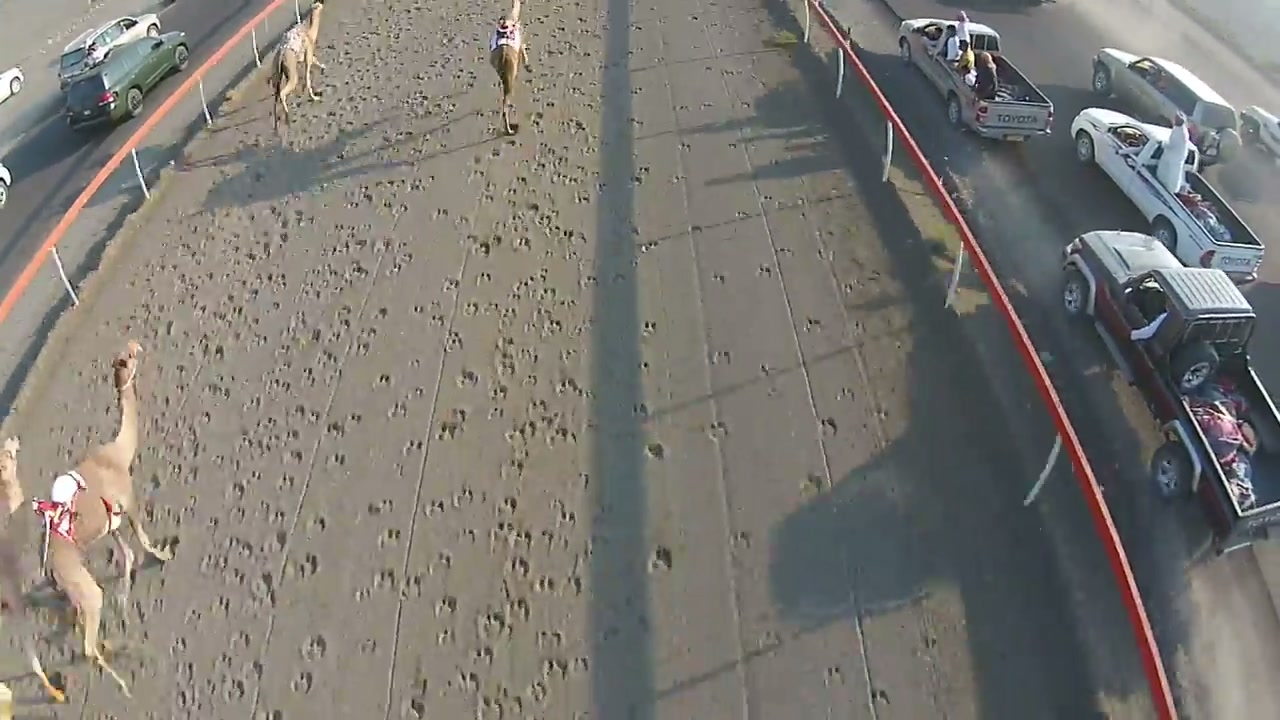animal_foot_print: (126, 182, 360, 700), (395, 134, 580, 700)
